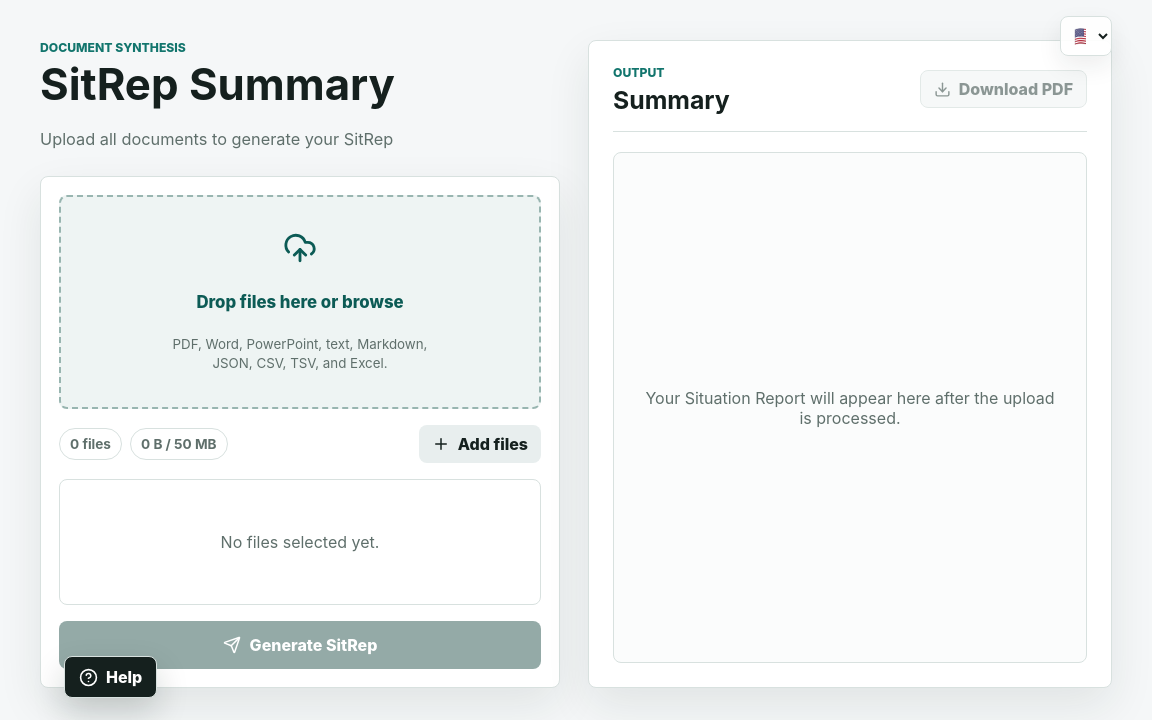
Test: Home › opens and closes the help popup
This screenshot has width=1152, height=720.
Check: the dialog "How to use this app" is not shown
What coordinates should you click on to do the following:
click the button "Help"
I would click on:
 (111, 677)
Its box is x1=64 y1=656 x2=157 y2=698.
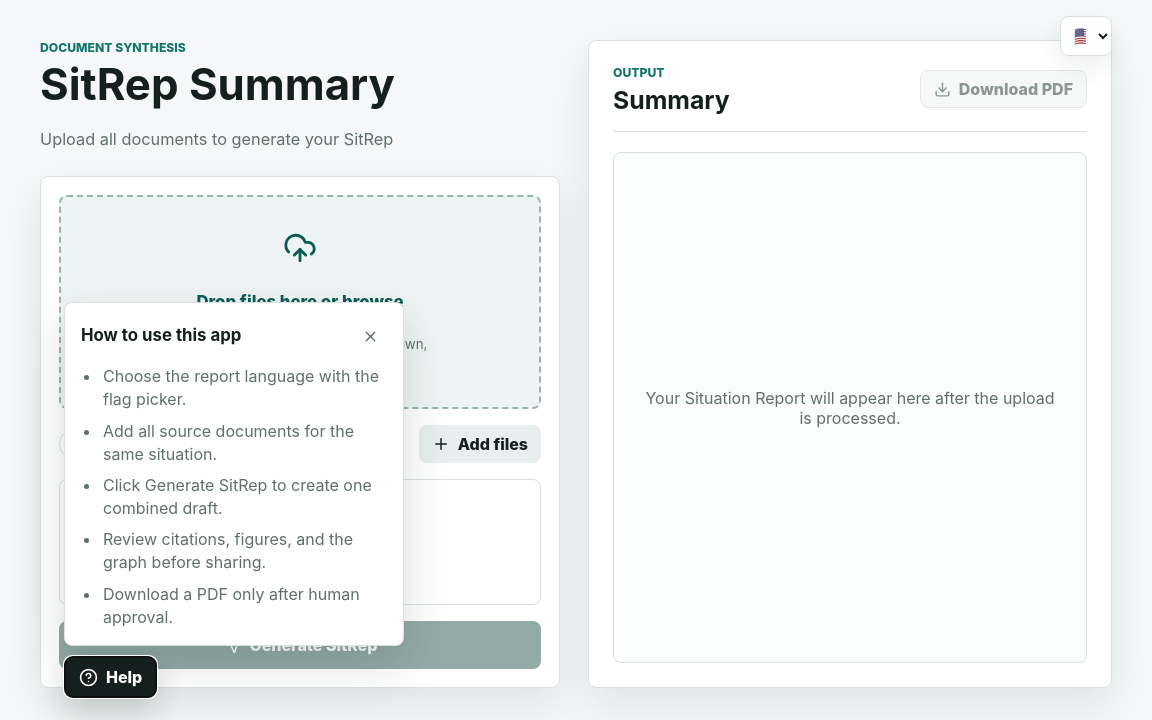
Check: the dialog "How to use this app" is shown, box x1=64 y1=302 x2=404 y2=646
Check: the list item "Add all source documents for the same situation." is shown, box x1=101 y1=420 x2=387 y2=466
What coordinates should you click on to do the following:
click the button named "Close help"
I would click on:
 (370, 336)
Its box is x1=353 y1=319 x2=387 y2=353.
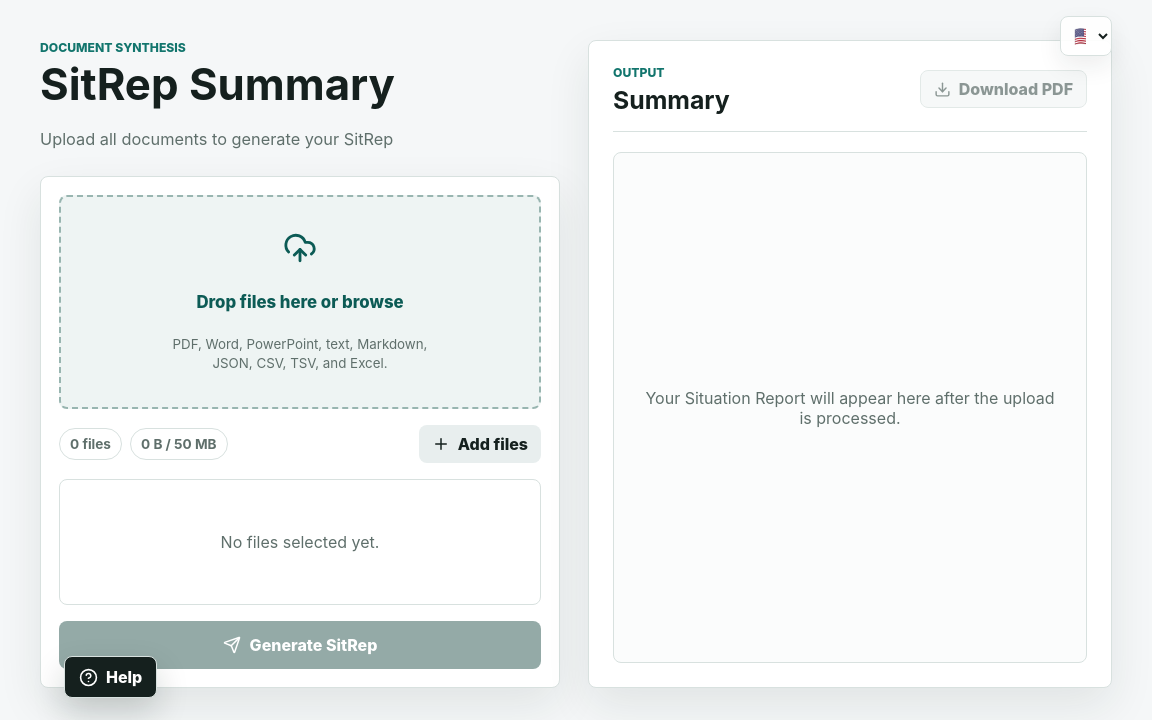
Check: the heading "How to use this app" is gone
